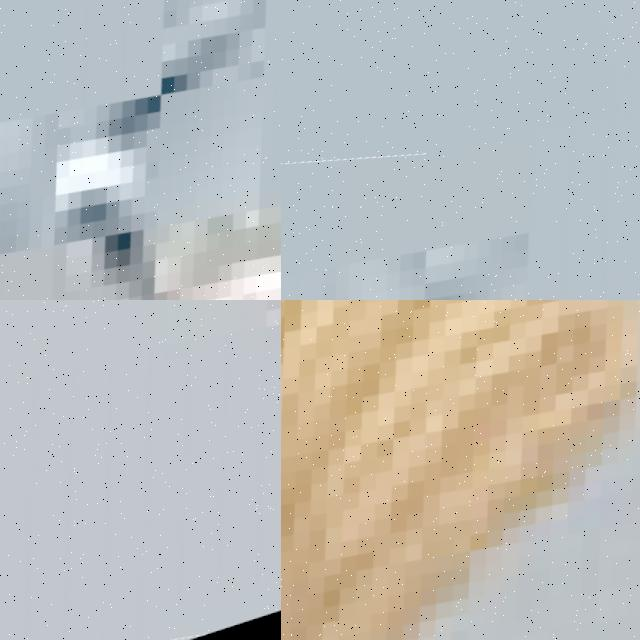0: (0, 300, 281, 640), (281, 56, 640, 300), (0, 0, 281, 300)
drone: (281, 300, 640, 640)
